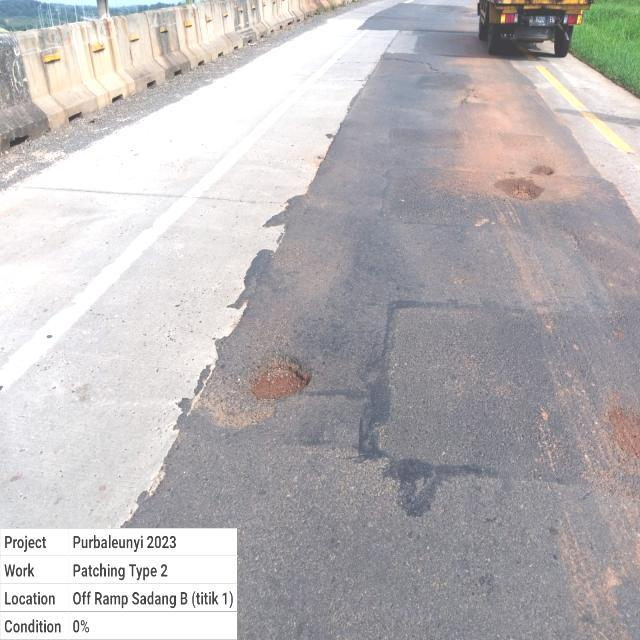Buraco: (238, 352, 316, 408), (489, 175, 546, 203), (527, 164, 556, 177)
